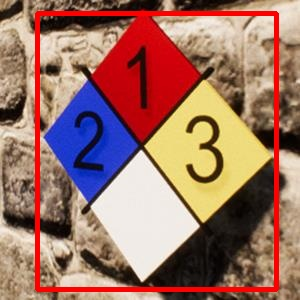nfpa: (37, 13, 276, 289)
